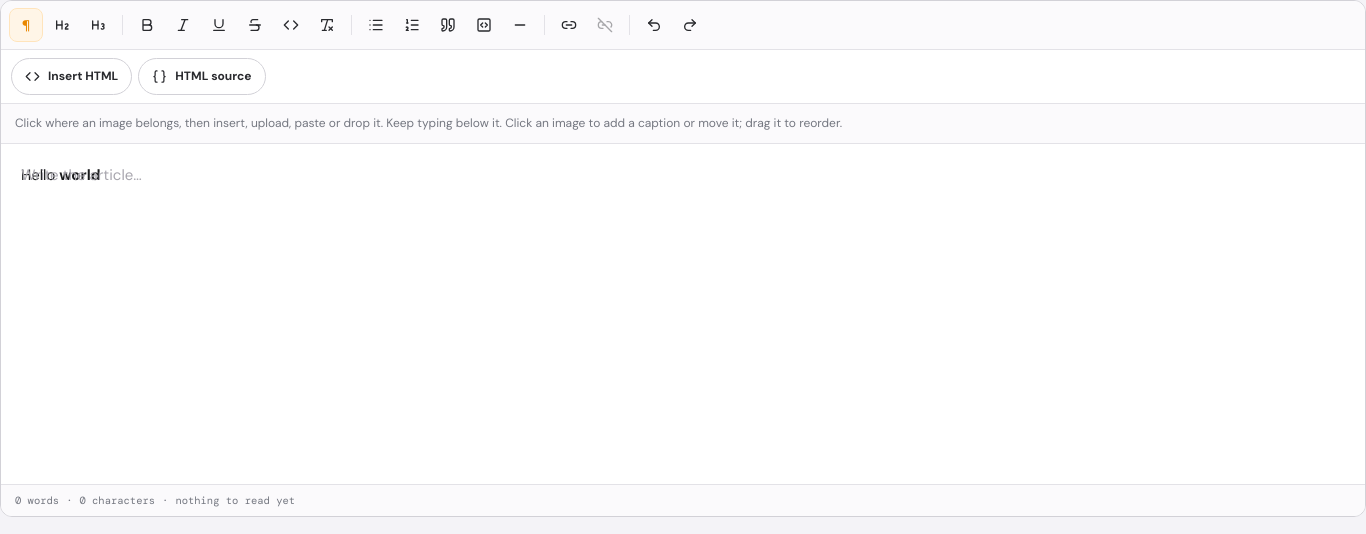
RichTextEditor › reports what the operator types
Clear the field named "Article content" at (61, 175), box [21,165,100,185]
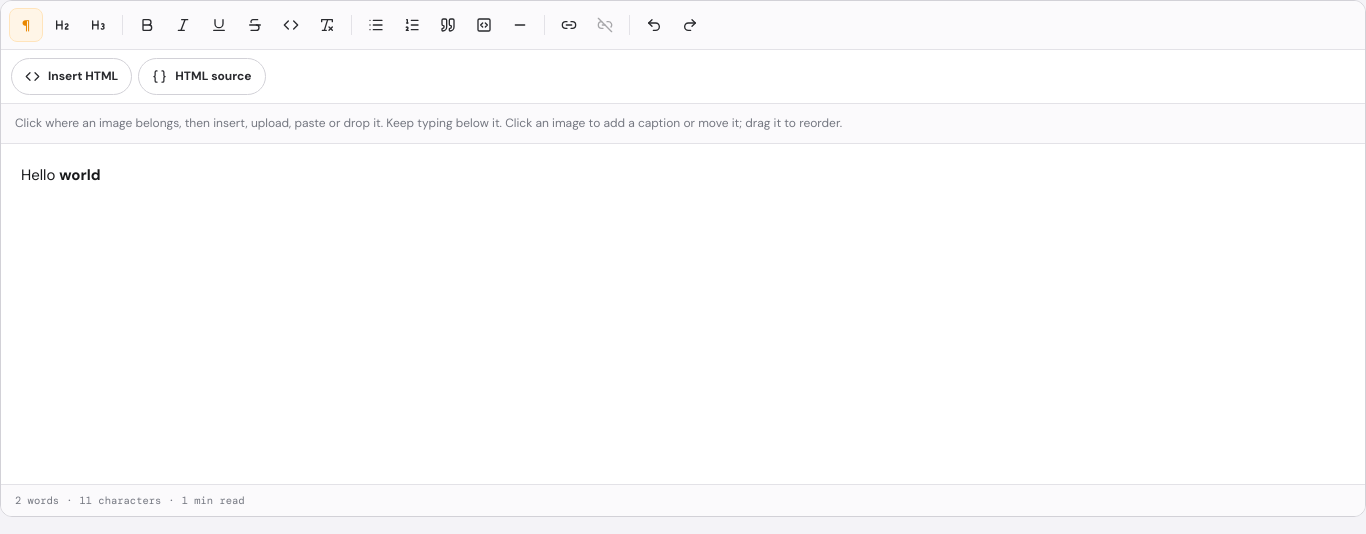
Expected: the text "1 min read" is shown, [182,494,245,507]
Now the text "2 words" is shown, box [15,494,59,507]
